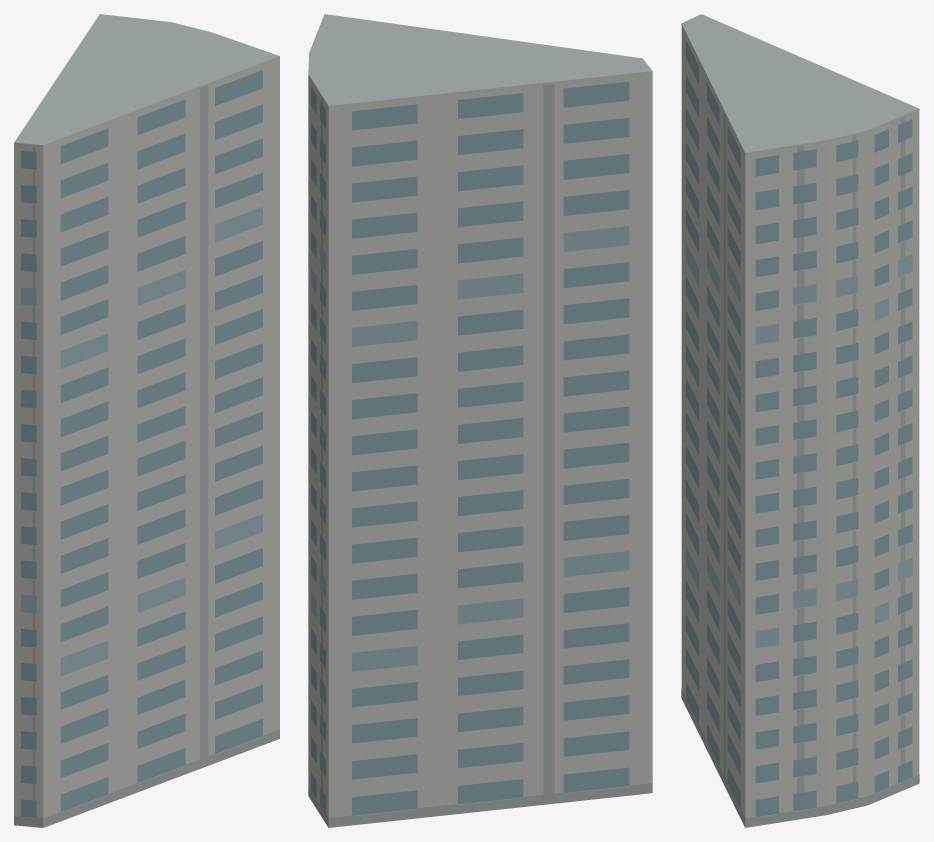
The model's file is residential-a2bd6e5b-f69d-41b1-ac54-f4c78da11b4e.glb.
3 views of the same model, side by side, from view 1: azimuth 30°, elevation 25°; view 2: azimuth 150°, elevation 25°; view 3: azimuth 270°, elevation 25° (orthographic). The views are drawn at different scales.
Parts seen in each view (by area): view 1: residential-a2bd6e5b-f69d-41b1-ac54-f4c78da11b4e.tmp; view 2: residential-a2bd6e5b-f69d-41b1-ac54-f4c78da11b4e.tmp; view 3: residential-a2bd6e5b-f69d-41b1-ac54-f4c78da11b4e.tmp.
Boxes of the visible parts, x1,y1,x2,y2 form: residential-a2bd6e5b-f69d-41b1-ac54-f4c78da11b4e.tmp: (14,14,279,827); residential-a2bd6e5b-f69d-41b1-ac54-f4c78da11b4e.tmp: (308,14,652,827); residential-a2bd6e5b-f69d-41b1-ac54-f4c78da11b4e.tmp: (681,14,919,827).
Bounding box in the file's own units: 35.33 × 80 × 25.57.
